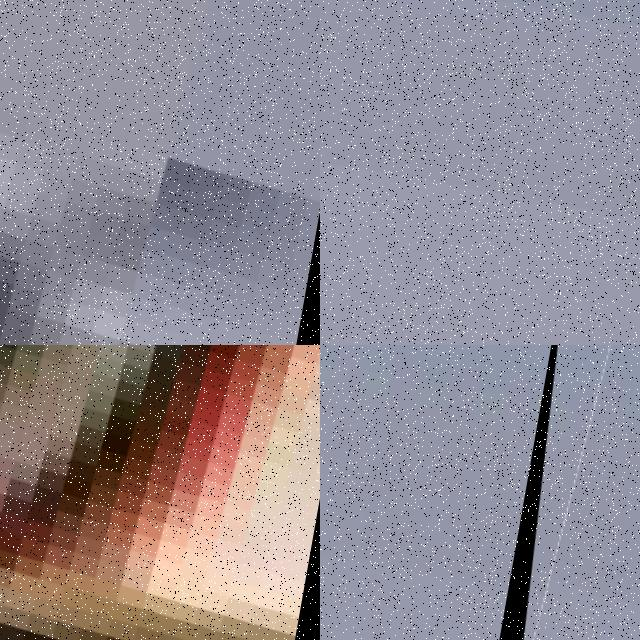drone: (0, 0, 320, 345), (0, 345, 320, 640), (458, 345, 640, 640)
